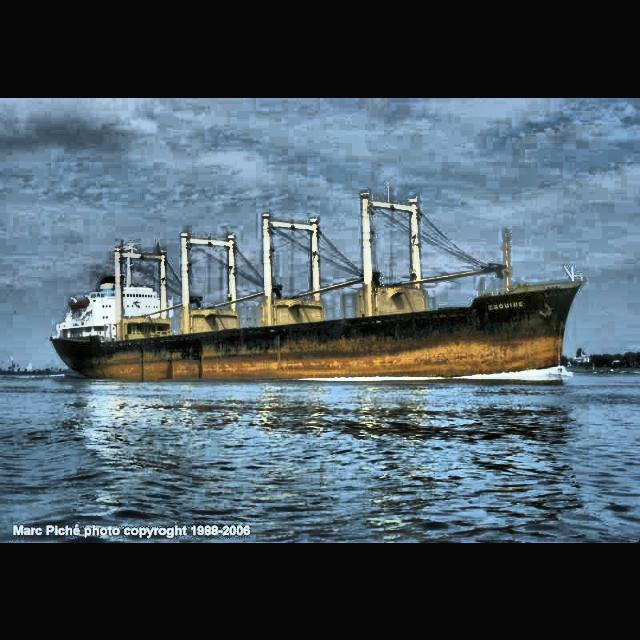bulk_carrier: (49, 190, 588, 386)
